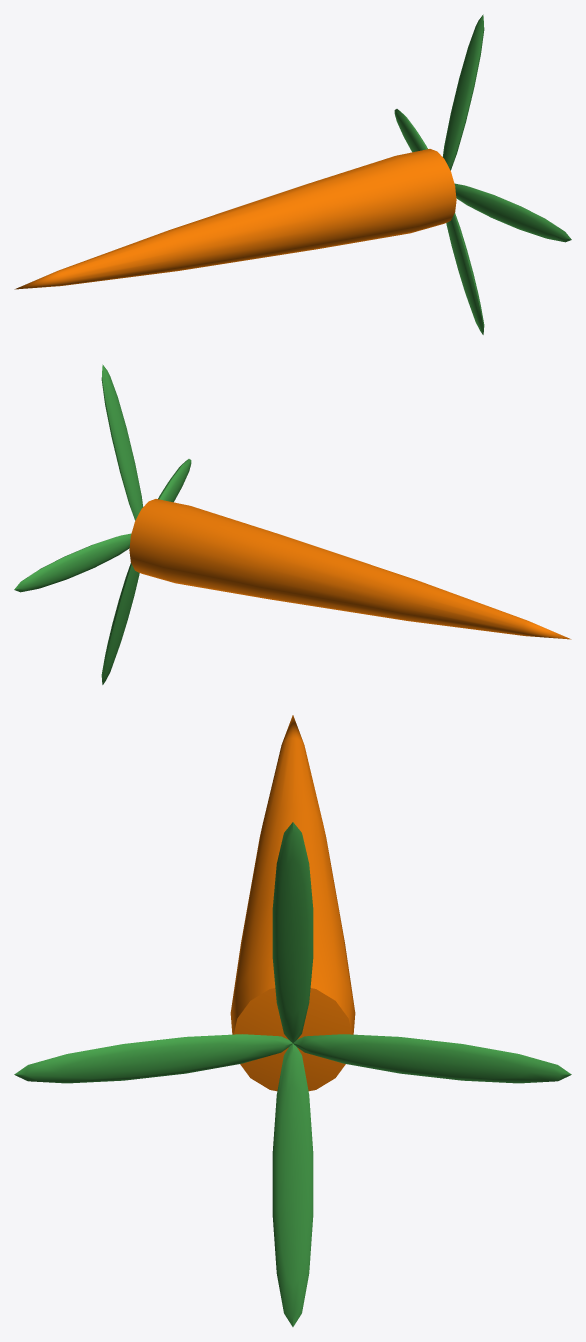
File: Carrot.fbx
3 renders of one model, top to bottom at view 1: azimuth 30°, elevation 25°; view 2: azimuth 150°, elevation 25°; view 3: azimuth 270°, elevation 25°, orthographic. The views are drawn at different scales.
Visible parts, largest first — view 1: Carrot; view 2: Carrot; view 3: Carrot.
Boxes of the visible parts, left/top/right/bottom form: Carrot: left=14, top=14, right=571, bottom=334; Carrot: left=14, top=364, right=571, bottom=684; Carrot: left=14, top=715, right=571, bottom=1326.
Size of the model in its own units: 0.2051 by 0.1342 by 0.1342.
